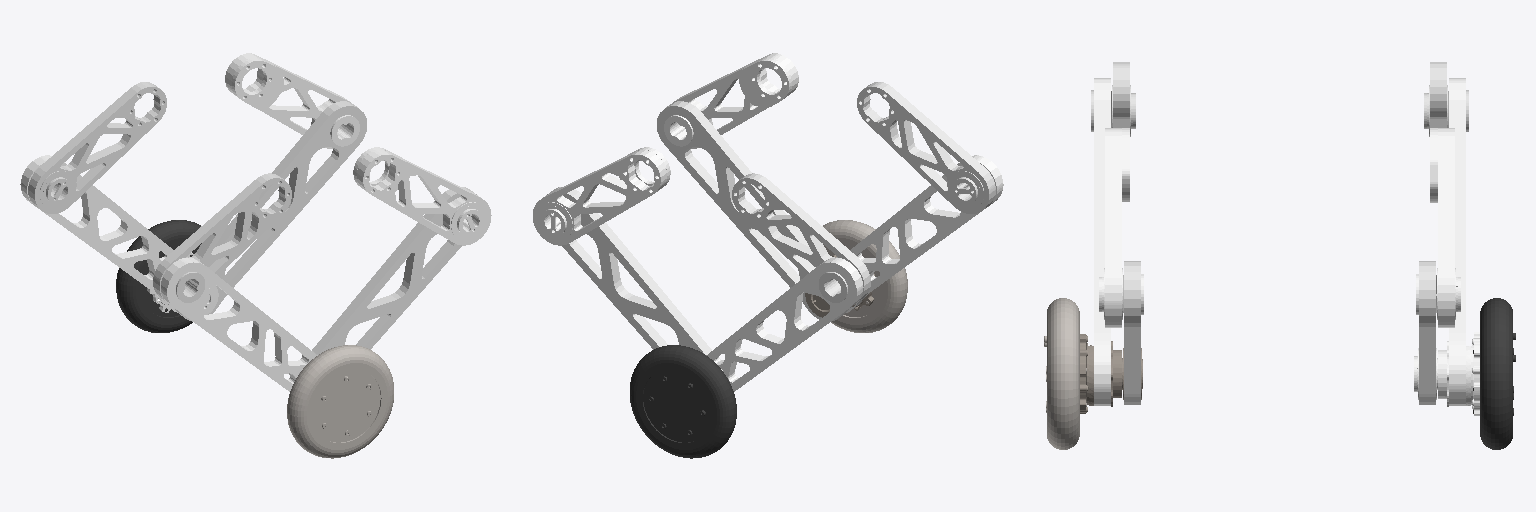
robot.urdf — rm1_4:
<?xml version="1.0" encoding="utf-8"?>
<!-- This URDF was automatically created by SolidWorks to URDF Exporter! Originally created by [author] ([email redacted]) 
     Commit Version: 1.6.0-4-g7f85cfe  Build Version: 1.6.7995.38578
     For more information, please see http://wiki.ros.org/sw_urdf_exporter -->
<robot
  name="rm1_4">
  <link
    name="base_link">
    <inertial>
      <origin
        xyz="-0.000892772281032661 -0.000386027788803766 0.0911675878160826"
        rpy="0 0 0" />
      <mass
        value="8.22086883787417" />
      <inertia
        ixx="0.0101752103464764"
        ixy="1.01943809528591E-05"
        ixz="-2.39886562184488E-05"
        iyy="0.0208524458300362"
        iyz="-2.59276698937394E-05"
        izz="0.0229915329558513" />
    </inertial>
    <visual>
      <origin
        xyz="0 0 0"
        rpy="0 0 0" />
      <geometry>
        <mesh
          filename="../meshes/base_link.STL" />
      </geometry>
      <material
        name="">
        <color
          rgba="0.752941176470588 0.752941176470588 0.752941176470588 1" />
      </material>
    </visual>
    <collision>
      <origin
        xyz="0 0 0"
        rpy="0 0 0" />
      <geometry>
        <mesh
          filename="../meshes/base_link.STL" />
      </geometry>
    </collision>
  </link>
  <link
    name="Link1">
    <inertial>
      <origin
        xyz="0.0796972594990132 0.0113863935021989 -0.0592039298594968"
        rpy="0 0 0" />
      <mass
        value="0.364093838667338" />
      <inertia
        ixx="0.000292444214292895"
        ixy="-7.82848119904574E-12"
        ixz="0.000238980855991656"
        iyy="0.000711500800317931"
        iyz="-2.86562163852465E-12"
        izz="0.000437635673749851" />
    </inertial>
    <visual>
      <origin
        xyz="0 0 0"
        rpy="0 0 0" />
      <geometry>
        <mesh
          filename="../meshes/Link1.STL" />
      </geometry>
      <material
        name="">
        <color
          rgba="1 1 1 1" />
      </material>
    </visual>
    <collision>
      <origin
        xyz="0 0 0"
        rpy="0 0 0" />
      <geometry>
        <mesh
          filename="../meshes/Link1.STL" />
      </geometry>
    </collision>
  </link>
  <joint
    name="Joint1"
    type="revolute">
    <origin
      xyz="0.075 0.1458 0.116"
      rpy="0 0 0" />
    <parent
      link="base_link" />
    <child
      link="Link1" />
    <axis
      xyz="0 1 0" />
    <limit
      lower="-3.14"
      upper="3.14"
      effort="40"
      velocity="3" />
  </joint>
  <link
    name="Link1_1">
    <inertial>
      <origin
        xyz="-0.090148 -0.0305 -0.07876"
        rpy="0 0 0" />
      <mass
        value="0.31619" />
      <inertia
        ixx="0.001298"
        ixy="1.6764E-17"
        ixz="-0.0013146"
        iyy="0.002904"
        iyz="1.3703E-17"
        izz="0.0016194" />
    </inertial>
    <visual>
      <origin
        xyz="0 0 0"
        rpy="0 0 0" />
      <geometry>
        <mesh
          filename="../meshes/Link1_1.STL" />
      </geometry>
      <material
        name="">
        <color
          rgba="0.92941 0.92941 0.92941 1" />
      </material>
    </visual>
    <collision>
      <origin
        xyz="0 0 0"
        rpy="0 0 0" />
      <geometry>
        <mesh
          filename="../meshes/Link1_1.STL" />
      </geometry>
    </collision>
  </link>
  <joint
    name="Joint1_1"
    type="revolute">
    <origin
      xyz="0.12049 0.02625 -0.08934"
      rpy="0 0 0" />
    <parent
      link="Link1" />
    <child
      link="Link1_1" />
    <axis
      xyz="0 1 0" />
    <limit
      lower="-3.14"
      upper="3.14"
      effort="40"
      velocity="3" />
  </joint>
  <link
    name="Link1_1_1">
    <inertial>
      <origin
        xyz="5.2409E-05 -0.063932 -6.5766E-05"
        rpy="0 0 0" />
      <mass
        value="0.38445" />
      <inertia
        ixx="9.747E-05"
        ixy="1.6737E-07"
        ixz="-4.4488E-07"
        iyy="0.00013529"
        iyz="-1.7433E-07"
        izz="9.7611E-05" />
    </inertial>
    <visual>
      <origin
        xyz="0 0 0"
        rpy="0 0 0" />
      <geometry>
        <mesh
          filename="../meshes/Link1_1_1.STL" />
      </geometry>
      <material
        name="">
        <color
          rgba="1 1 1 1" />
      </material>
    </visual>
    <collision>
      <origin
        xyz="0 0 0"
        rpy="0 0 0" />
      <geometry>
        <mesh
          filename="../meshes/Link1_1_1.STL" />
      </geometry>
    </collision>
  </link>
  <joint
    name="Joint1_1_1"
    type="fixed">
    <origin
      xyz="-0.20244 0.04955 -0.17866"
      rpy="0 0 0" />
    <parent
      link="Link1_1" />
    <child
      link="Link1_1_1" />
    <axis
      xyz="0 0 0" />
  </joint>
  <link
    name="Link1_wheel">
    <inertial>
      <origin
        xyz="-1.41640171813506E-15 -0.0136243896280868 -2.05391259555654E-15"
        rpy="0 0 0" />
      <mass
        value="0.350527091202425" />
      <inertia
        ixx="0.00054526709279272"
        ixy="4.96793174329931E-18"
        ixz="-5.29283942829419E-20"
        iyy="0.00104353211018634"
        iyz="3.16208410729487E-19"
        izz="0.00054526709279272" />
    </inertial>
    <visual>
      <origin
        xyz="0 0 0"
        rpy="0 0 0" />
      <geometry>
        <mesh
          filename="../meshes/Link1_wheel.STL" />
      </geometry>
      <material
        name="">
        <color
          rgba="0.298039215686275 0.298039215686275 0.298039215686275 1" />
      </material>
    </visual>
    <collision>
      <origin
        xyz="0 0 0"
        rpy="0 0 0" />
      <geometry>
        <mesh
          filename="../meshes/Link1_wheel.STL" />
      </geometry>
    </collision>
  </link>
  <joint
    name="Joint1_wheel"
    type="revolute">
    <origin
      xyz="0 0 0"
      rpy="0 0 0" />
    <parent
      link="Link1_1_1" />
    <child
      link="Link1_wheel" />
    <axis
      xyz="0 1 0" />
    <limit
      lower="-100"
      upper="100"
      effort="10"
      velocity="5" />
  </joint>
  <link
    name="Link2">
    <inertial>
      <origin
        xyz="-0.0938934972745664 0.0107921320054443 -0.0599317711416569"
        rpy="0 0 0" />
      <mass
        value="0.319160456889778" />
      <inertia
        ixx="0.000245173618732527"
        ixy="-8.33682811900276E-12"
        ixz="-0.000223886857731029"
        iyy="0.000681305807790174"
        iyz="3.3190622779138E-12"
        izz="0.000454591454431056" />
    </inertial>
    <visual>
      <origin
        xyz="0 0 0"
        rpy="0 0 0" />
      <geometry>
        <mesh
          filename="../meshes/Link2.STL" />
      </geometry>
      <material
        name="">
        <color
          rgba="0.929411764705882 0.929411764705882 0.929411764705882 1" />
      </material>
    </visual>
    <collision>
      <origin
        xyz="0 0 0"
        rpy="0 0 0" />
      <geometry>
        <mesh
          filename="../meshes/Link2.STL" />
      </geometry>
    </collision>
  </link>
  <joint
    name="Joint2"
    type="revolute">
    <origin
      xyz="-0.075 0.1423 0.116"
      rpy="0 0 0" />
    <parent
      link="base_link" />
    <child
      link="Link2" />
    <axis
      xyz="0 1 0" />
    <limit
      lower="-3.14"
      upper="3.14"
      effort="40"
      velocity="3" />
  </joint>
  <link
    name="Link2_1">
    <inertial>
      <origin
        xyz="0.0888144796611295 0.0304999999999944 -0.0849096310540993"
        rpy="0 0 0" />
      <mass
        value="0.362769366826742" />
      <inertia
        ixx="0.0016268422541624"
        ixy="1.604699786896E-17"
        ixz="0.00151614727909518"
        iyy="0.00332952872547524"
        iyz="-1.41012164354485E-17"
        izz="0.00171816463096412" />
    </inertial>
    <visual>
      <origin
        xyz="0 0 0"
        rpy="0 0 0" />
      <geometry>
        <mesh
          filename="../meshes/Link2_1.STL" />
      </geometry>
      <material
        name="">
        <color
          rgba="1 1 1 1" />
      </material>
    </visual>
    <collision>
      <origin
        xyz="0 0 0"
        rpy="0 0 0" />
      <geometry>
        <mesh
          filename="../meshes/Link2_1.STL" />
      </geometry>
    </collision>
  </link>
  <joint
    name="Joint2_1"
    type="revolute">
    <origin
      xyz="-0.12643 -0.00275 -0.080714"
      rpy="0 0 0" />
    <parent
      link="Link2" />
    <child
      link="Link2_1" />
    <axis
      xyz="0 1 0" />
    <limit
      lower="-3.14"
      upper="3.14"
      effort="40"
      velocity="3" />
  </joint>
  <link
    name="Link3">
    <inertial>
      <origin
        xyz="-0.0938848466020199 -0.0107921320054425 -0.0599453628936306"
        rpy="0 0 0" />
      <mass
        value="0.319160456889777" />
      <inertia
        ixx="0.000246525264350726"
        ixy="3.86568135743563E-13"
        ixz="-0.000224333749681424"
        iyy="0.000681305807790174"
        iyz="9.41359647958828E-12"
        izz="0.000453239808812857" />
    </inertial>
    <visual>
      <origin
        xyz="0 0 0"
        rpy="0 0 0" />
      <geometry>
        <mesh
          filename="../meshes/Link3.STL" />
      </geometry>
      <material
        name="">
        <color
          rgba="0.929411764705882 0.929411764705882 0.929411764705882 1" />
      </material>
    </visual>
    <collision>
      <origin
        xyz="0 0 0"
        rpy="0 0 0" />
      <geometry>
        <mesh
          filename="../meshes/Link3.STL" />
      </geometry>
    </collision>
  </link>
  <joint
    name="Joint3"
    type="revolute">
    <origin
      xyz="-0.075 -0.1423 0.116"
      rpy="0 0 0" />
    <parent
      link="base_link" />
    <child
      link="Link3" />
    <axis
      xyz="0 1 0" />
    <limit
      lower="-3.14"
      upper="3.14"
      effort="40"
      velocity="3" />
  </joint>
  <link
    name="Link3_1">
    <inertial>
      <origin
        xyz="0.0881992328413841 -0.030500000000001 -0.0855485392593422"
        rpy="0 0 0" />
      <mass
        value="0.362769366826742" />
      <inertia
        ixx="0.0016037398658573"
        ixy="1.47772641933188E-17"
        ixz="0.00151527525108559"
        iyy="0.00332952872547524"
        iyz="-1.27941174704945E-17"
        izz="0.00174126701926921" />
    </inertial>
    <visual>
      <origin
        xyz="0 0 0"
        rpy="0 0 0" />
      <geometry>
        <mesh
          filename="../meshes/Link3_1.STL" />
      </geometry>
      <material
        name="">
        <color
          rgba="1 1 1 1" />
      </material>
    </visual>
    <collision>
      <origin
        xyz="0 0 0"
        rpy="0 0 0" />
      <geometry>
        <mesh
          filename="../meshes/Link3_1.STL" />
      </geometry>
    </collision>
  </link>
  <joint
    name="Joint3_1"
    type="revolute">
    <origin
      xyz="-0.12643 0.00275 -0.080714"
      rpy="0 0 0" />
    <parent
      link="Link3" />
    <child
      link="Link3_1" />
    <axis
      xyz="0 1 0" />
    <limit
      lower="-3.14"
      upper="3.14"
      effort="40"
      velocity="3" />
  </joint>
  <link
    name="Link4">
    <inertial>
      <origin
        xyz="0.088062 -0.014886 -0.045846"
        rpy="0 0 0" />
      <mass
        value="0.36409" />
      <inertia
        ixx="0.00022253"
        ixy="2.8937E-14"
        ixz="0.00020525"
        iyy="0.0007115"
        iyz="-9.616E-12"
        izz="0.00050755" />
    </inertial>
    <visual>
      <origin
        xyz="0 0 0"
        rpy="0 0 0" />
      <geometry>
        <mesh
          filename="../meshes/Link4.STL" />
      </geometry>
      <material
        name="">
        <color
          rgba="1 1 1 1" />
      </material>
    </visual>
    <collision>
      <origin
        xyz="0 0 0"
        rpy="0 0 0" />
      <geometry>
        <mesh
          filename="../meshes/Link4.STL" />
      </geometry>
    </collision>
  </link>
  <joint
    name="Joint4"
    type="revolute">
    <origin
      xyz="0.075 -0.1423 0.116"
      rpy="0 0 0" />
    <parent
      link="base_link" />
    <child
      link="Link4" />
    <axis
      xyz="0 1 0" />
    <limit
      lower="-3.14"
      upper="3.14"
      effort="40"
      velocity="3" />
  </joint>
  <link
    name="Link4_1">
    <inertial>
      <origin
        xyz="-0.090147993571541 0.0305000000000009 -0.0787595260203655"
        rpy="0 0 0" />
      <mass
        value="0.316188691129829" />
      <inertia
        ixx="0.0012980447927671"
        ixy="1.94975908760445E-17"
        ixz="-0.00131460818452968"
        iyy="0.00290397940736062"
        iyz="1.62163237981476E-17"
        izz="0.00161942533208173" />
    </inertial>
    <visual>
      <origin
        xyz="0 0 0"
        rpy="0 0 0" />
      <geometry>
        <mesh
          filename="../meshes/Link4_1.STL" />
      </geometry>
      <material
        name="">
        <color
          rgba="0.929411764705882 0.929411764705882 0.929411764705882 1" />
      </material>
    </visual>
    <collision>
      <origin
        xyz="0 0 0"
        rpy="0 0 0" />
      <geometry>
        <mesh
          filename="../meshes/Link4_1.STL" />
      </geometry>
    </collision>
  </link>
  <joint
    name="Joint4_1"
    type="revolute">
    <origin
      xyz="0.12049 -0.02975 -0.08934"
      rpy="0 0 0" />
    <parent
      link="Link4" />
    <child
      link="Link4_1" />
    <axis
      xyz="0 1 0" />
    <limit
      lower="-3.14"
      upper="3.14"
      effort="40"
      velocity="3" />
  </joint>
  <link
    name="Link4_1_1">
    <inertial>
      <origin
        xyz="6.85661482628126E-05 0.0635510419744176 -5.06517622370084E-05"
        rpy="0 0 0" />
      <mass
        value="0.37921801318209" />
      <inertia
        ixx="9.71670720974106E-05"
        ixy="-1.8051937485368E-07"
        ixz="-4.50379795480618E-07"
        iyy="0.000134317263554592"
        iyz="1.60673299107065E-07"
        izz="9.6934131915369E-05" />
    </inertial>
    <visual>
      <origin
        xyz="0 0 0"
        rpy="0 0 0" />
      <geometry>
        <mesh
          filename="../meshes/Link4_1_1.STL" />
      </geometry>
      <material
        name="">
        <color
          rgba="0.650980392156863 0.619607843137255 0.588235294117647 1" />
      </material>
    </visual>
    <collision>
      <origin
        xyz="0 0 0"
        rpy="0 0 0" />
      <geometry>
        <mesh
          filename="../meshes/Link4_1_1.STL" />
      </geometry>
    </collision>
  </link>
  <joint
    name="Joint4_1_1"
    type="fixed">
    <origin
      xyz="-0.20244 -0.04955 -0.17866"
      rpy="0 0 0" />
    <parent
      link="Link4_1" />
    <child
      link="Link4_1_1" />
    <axis
      xyz="0 0 0" />
  </joint>
  <link
    name="Link4_wheel">
    <inertial>
      <origin
        xyz="-5.52509427098613E-16 0.0136243896280863 -3.05311331771918E-15"
        rpy="0 0 0" />
      <mass
        value="0.350527091202425" />
      <inertia
        ixx="0.00054526709279272"
        ixy="4.60644957060255E-18"
        ixz="1.02204372618484E-20"
        iyy="0.00104353211018634"
        iyz="3.91894186829004E-19"
        izz="0.00054526709279272" />
    </inertial>
    <visual>
      <origin
        xyz="0 0 0"
        rpy="0 0 0" />
      <geometry>
        <mesh
          filename="../meshes/Link4_wheel.STL" />
      </geometry>
      <material
        name="">
        <color
          rgba="0.776470588235294 0.756862745098039 0.737254901960784 1" />
      </material>
    </visual>
    <collision>
      <origin
        xyz="0 0 0"
        rpy="0 0 0" />
      <geometry>
        <mesh
          filename="../meshes/Link4_wheel.STL" />
      </geometry>
    </collision>
  </link>
  <joint
    name="Joint4_wheel"
    type="revolute">
    <origin
      xyz="0 0 0"
      rpy="0 0 0" />
    <parent
      link="Link4_1_1" />
    <child
      link="Link4_wheel" />
    <axis
      xyz="0 1 0" />
    <limit
      lower="-100"
      upper="100"
      effort="10"
      velocity="5" />
  </joint>
</robot>

--- Facts derived from the render (not from the file) ---
Views: 3 orthographic renders of the robot side by side, from view 1: azimuth 30°, elevation 25°; view 2: azimuth 150°, elevation 25°; view 3: azimuth 270°, elevation 25°.
Robot: rm1_4 — 13 links, 12 joints (10 revolute, 2 fixed); root link base_link; default pose: every joint at zero.
Links seen in each view (by area): view 1: Link4_wheel, Link2, Link4_1, Link1_1, Link4, Link3_1, Link3, Link1, Link2_1, Link1_wheel; view 2: Link1_wheel, Link3, Link1_1, Link4_1, Link1, Link2_1, Link2, Link4, Link3_1, Link4_wheel, Link4_1_1; view 3: Link1_wheel, Link4_wheel, Link1, Link4, Link2_1, Link3_1, Link1_1, Link4_1, Link1_1_1, Link4_1_1, Link2, Link3.
Link boxes in pixels (x1,y1,x2,y2): Link4_wheel: (287,345,393,458); Link2: (28,82,166,213); Link4_1: (299,187,476,373); Link1_1: (175,101,366,321); Link4: (353,147,491,245); Link3_1: (161,258,317,391); Link3: (153,173,291,302); Link1: (225,53,359,148); Link2_1: (20,155,177,312); Link1_wheel: (116,220,201,332); Link1_wheel: (630,345,736,458); Link3: (857,82,995,213); Link1_1: (547,187,722,370); Link4_1: (657,101,848,321); Link1: (533,147,670,245); Link2_1: (706,258,863,391); Link2: (732,173,870,302); Link4: (664,53,798,148); Link3_1: (846,155,1003,312); Link4_wheel: (823,220,907,332); Link4_1_1: (805,255,874,317); Link1_wheel: (1473,298,1515,449); Link4_wheel: (1044,298,1086,449); Link1: (1416,128,1460,327); Link4: (1099,128,1143,327); Link2_1: (1449,78,1465,405); Link3_1: (1094,78,1110,405); Link1_1: (1419,261,1435,404); Link4_1: (1124,261,1140,404); Link1_1_1: (1414,332,1479,415); Link4_1_1: (1080,334,1142,413); Link2: (1424,62,1468,136); Link3: (1091,62,1135,136).
Size in the robot's own frame: 0.4609 by 0.4512 by 0.3683 metres.
Meshes: 13 distinct files referenced, 12 mesh visuals loaded (12 binary STL); not drawn: 1 (reference not matched to a file when rendering).